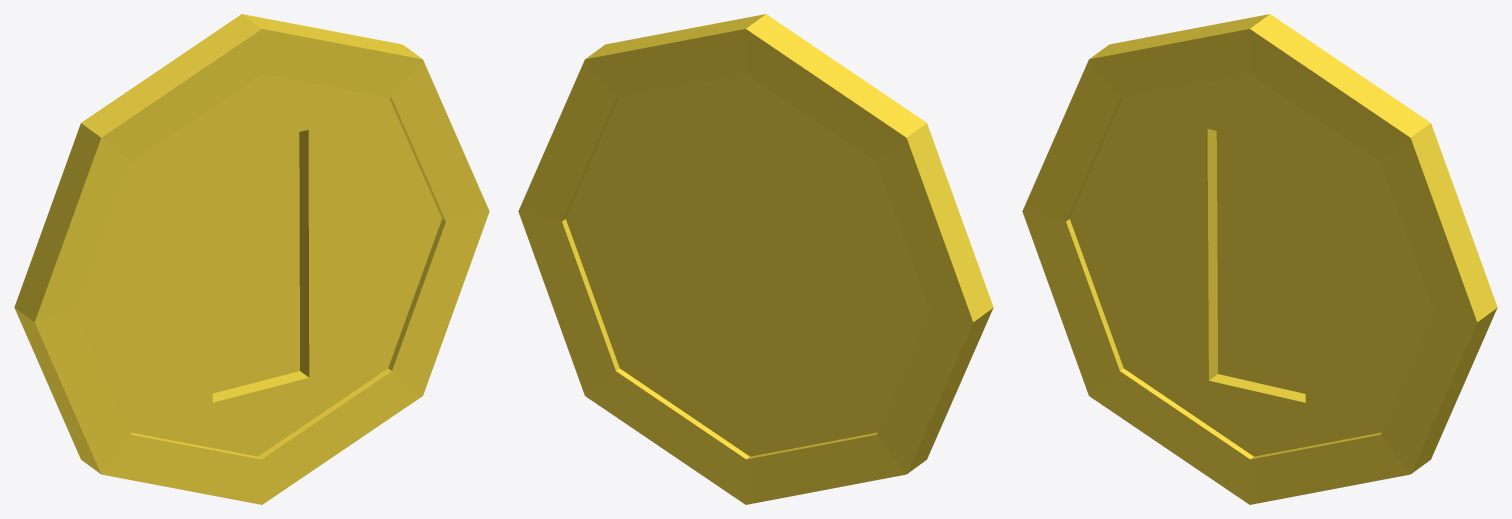
File: coin.fbx
3 renders of one model, left to right at view 1: azimuth 30°, elevation 25°; view 2: azimuth 150°, elevation 25°; view 3: azimuth 330°, elevation 25°, orthographic.
Visible parts, largest first — view 1: coin; view 2: coin; view 3: coin.
Boxes of the visible parts, left/top/right/bottom form: coin: left=14, top=14, right=489, bottom=504; coin: left=518, top=14, right=993, bottom=504; coin: left=1022, top=14, right=1497, bottom=504.
Size of the model in its own units: 205 by 205 by 15.88.
